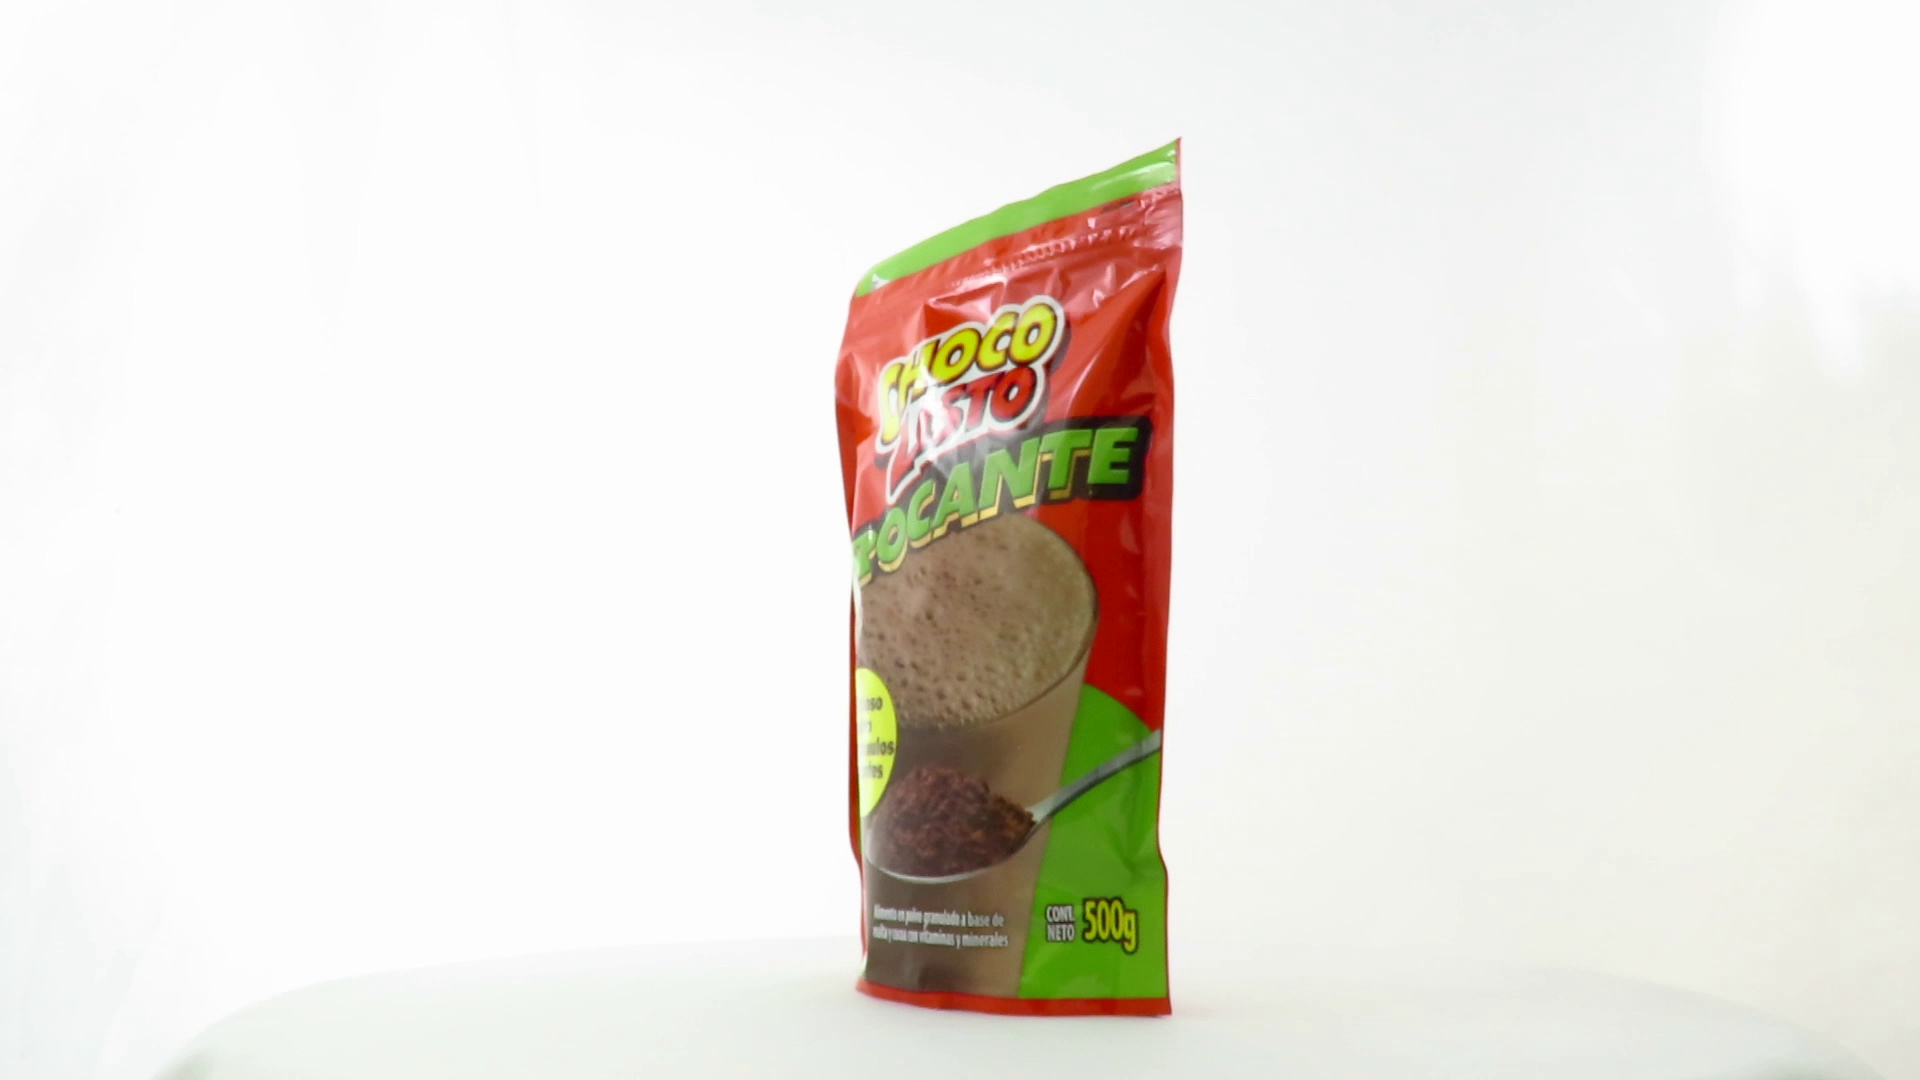COL0170102DYP50000: (829, 132, 1189, 1026)
